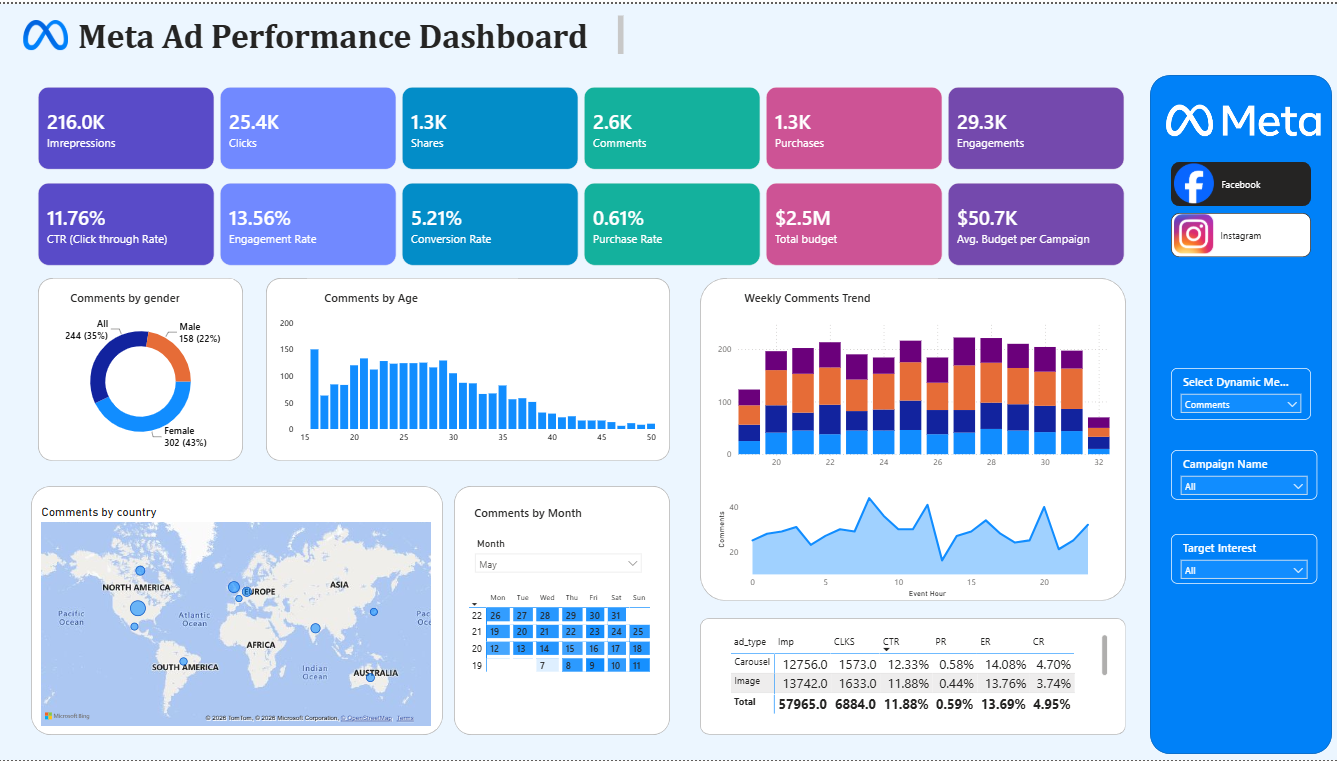

The page's visual inventory and layout, read from the dashboard file:
{"tool":"powerbi","page":{"name":"Facebook","canvas":[1920,1080],"ordinal":0},"visuals":[{"type":"textbox","box":[108.6,11.4,790,65.7],"z":0},{"type":"image","box":[0,22.9,135.7,42.9],"z":1000},{"type":"shape","box":[1645.7,101.4,260,970],"z":2000},{"type":"cardVisual","fields":{"Data":["ad_events.Imrepressions","ad_events.Clicks","ad_events.Shares","ad_events.Comments","ad_events.Purchases","ad_events.Engagements"]},"box":[40,101.4,1588.6,152.9],"z":3000},{"type":"cardVisual","fields":{"Data":["ad_events.CTR (Click through Rate)","ad_events.Engagement Rate","ad_events.Conversion Rate","ad_events.Purchase Rate","ad_events.Total budget","ad_events.Avg. Budget per Campaign"]},"box":[40,238.6,1588.6,152.9],"z":4000},{"type":"slicer","fields":{"Values":["Select Dynamic Measure.Select Dynamic Measure"]},"box":[1675.7,520,200,74.3],"z":5000},{"type":"shape","box":[57.1,391.4,292.9,261.4],"z":6000},{"type":"donutChart","fields":{"Y":["ad_events.Comments"],"Category":["ads.target_gender"]},"box":[65.7,434.3,275.7,210],"z":7000},{"type":"cardVisual","fields":{"Data":["ad_events.Gender Title"]},"box":[74.3,391.4,267.1,58.6],"z":8000},{"type":"shape","box":[382.9,391.4,577.1,261.4],"z":9000},{"type":"columnChart","fields":{"Y":["ad_events.Comments"],"Category":["users.user_age"]},"box":[397.1,441.4,548.6,195.7],"z":10000},{"type":"cardVisual","fields":{"Data":["ad_events.Age Title"]},"box":[437.1,391.4,310,58.6],"z":11000},{"type":"shape","box":[47.1,688.6,588.6,355.7],"z":12000},{"type":"map","fields":{"Size":["ad_events.Comments"],"Category":["users.country"]},"box":[57.1,715.7,567.1,321.4],"z":13000},{"type":"shape","box":[651.4,688.6,308.6,355.7],"z":14000},{"type":"pivotTable","fields":{"Rows":["Calendar Table.Week Number"],"Columns":["Calendar Table.Day Name"],"Values":["Min(Calendar Table.Day Number)"]},"box":[666.7,833.3,275,203.3],"z":15000},{"type":"slicer","fields":{"Values":["Calendar Table.Month"]},"box":[671.7,756.7,258.3,76.7],"z":16000},{"type":"cardVisual","fields":{"Data":["ad_events.Calender Title"]},"box":[651.7,698.3,258.3,58.3],"z":17000},{"type":"shape","box":[1002.9,391.4,608.6,461.4],"z":18000},{"type":"columnChart","fields":{"Y":["ad_events.Comments"],"Series":["ads.ad_type"],"Category":["Calendar Table.Week Number"]},"box":[1023.3,441.7,570,231.7],"z":19000},{"type":"cardVisual","fields":{"Data":["ad_events.Weekly Title"]},"box":[1036.7,391.7,310,58.3],"z":20000},{"type":"areaChart","fields":{"Y":["ad_events.Comments"],"Category":["ad_events.Event Hour"]},"box":[1023.3,673.3,570,180],"z":21000},{"type":"shape","box":[1003.3,876.7,608.3,166.7],"z":22000},{"type":"pivotTable","fields":{"Rows":["ads.ad_type"],"Values":["ad_events.Imrepressions","ad_events.Clicks","ad_events.CTR (Click through Rate)","ad_events.Purchase Rate","ad_events.Engagement Rate","ad_events.Conversion Rate"]},"box":[1041.4,895.7,549,122.9],"z":23000},{"type":"slicer","fields":{"Values":["campaigns.name"]},"box":[1675.7,637.1,208.6,71.4],"z":24000},{"type":"slicer","fields":{"Values":["ads.target_interests"]},"box":[1675.7,757.1,208.6,71.4],"z":25000},{"type":"pageNavigator","box":[1675.7,225.7,200,137.1],"z":26000},{"type":"image","box":[1680,225.7,57.1,61.4],"z":27000},{"type":"image","box":[1680,294.3,55.7,68.6],"z":28000},{"type":"image","box":[1668.6,115.7,221.4,101.4],"z":29000}]}

Visuals, with their boxes in screenshot pixels (x1, y1, x2, y2), scaled from the page's 1920x1080 canvas onto the 1337x761 screenshot:
textbox: bbox=(76, 8, 626, 54)
image: bbox=(0, 16, 94, 46)
shape: bbox=(1146, 71, 1327, 755)
cardVisual - ad_events.Imrepressions x ad_events.Clicks: bbox=(28, 71, 1134, 179)
cardVisual - ad_events.CTR (Click through Rate) x ad_events.Engagement Rate: bbox=(28, 168, 1134, 276)
slicer - Select Dynamic Measure.Select Dynamic Measure: bbox=(1167, 366, 1306, 419)
shape: bbox=(40, 276, 244, 460)
donutChart - ad_events.Comments x ads.target_gender: bbox=(46, 306, 238, 454)
cardVisual - ad_events.Gender Title: bbox=(52, 276, 238, 317)
shape: bbox=(267, 276, 668, 460)
columnChart - ad_events.Comments x users.user_age: bbox=(277, 311, 659, 449)
cardVisual - ad_events.Age Title: bbox=(304, 276, 520, 317)
shape: bbox=(33, 485, 443, 736)
map - ad_events.Comments x users.country: bbox=(40, 504, 435, 731)
shape: bbox=(454, 485, 668, 736)
pivotTable - Calendar Table.Week Number x Calendar Table.Day Name: bbox=(464, 587, 656, 730)
slicer - Calendar Table.Month: bbox=(468, 533, 648, 587)
cardVisual - ad_events.Calender Title: bbox=(454, 492, 634, 533)
shape: bbox=(698, 276, 1122, 601)
columnChart - ad_events.Comments x ads.ad_type: bbox=(713, 311, 1110, 474)
cardVisual - ad_events.Weekly Title: bbox=(722, 276, 938, 317)
areaChart - ad_events.Comments x ad_events.Event Hour: bbox=(713, 474, 1110, 601)
shape: bbox=(699, 618, 1122, 735)
pivotTable - ads.ad_type x ad_events.Imrepressions: bbox=(725, 631, 1107, 718)
slicer - campaigns.name: bbox=(1167, 449, 1312, 499)
slicer - ads.target_interests: bbox=(1167, 533, 1312, 584)
pageNavigator: bbox=(1167, 159, 1306, 256)
image: bbox=(1170, 159, 1210, 202)
image: bbox=(1170, 207, 1209, 256)
image: bbox=(1162, 82, 1316, 153)
